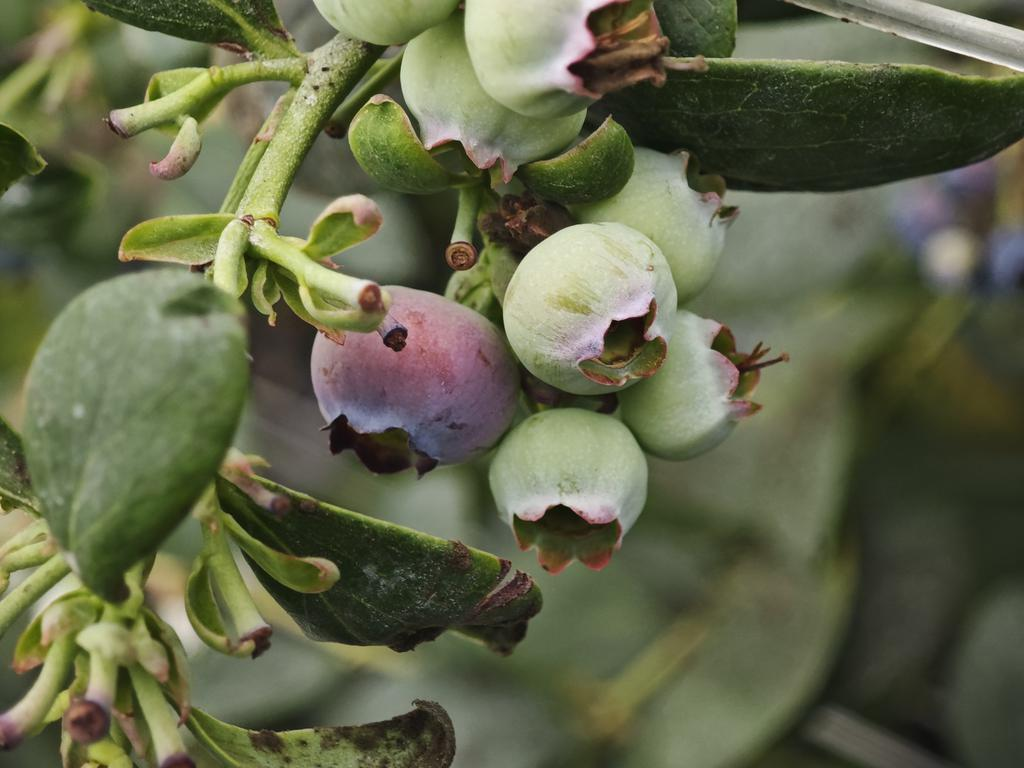Semi-RipeBlueBerry: (301, 266, 536, 487), (483, 408, 671, 559)
UnripeBlueBerry: (486, 214, 691, 394)
